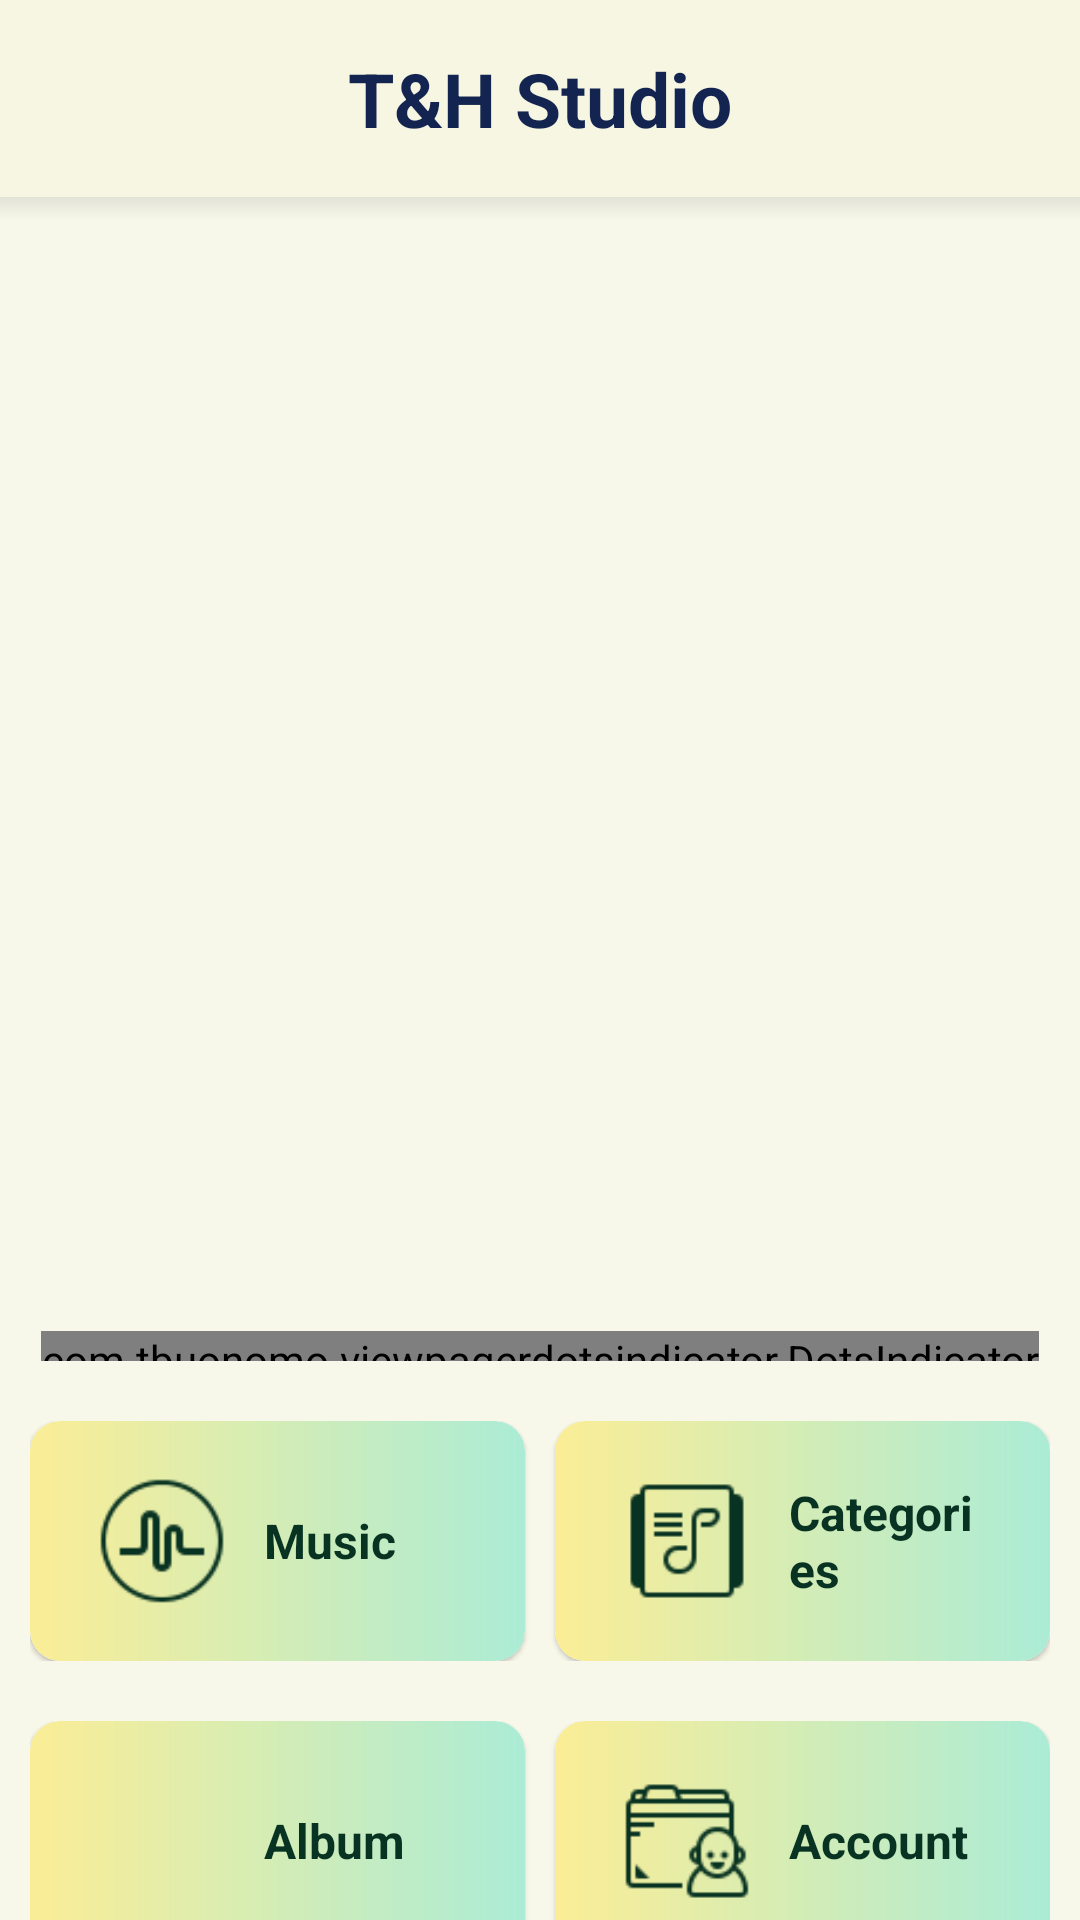

Screen size 1080 x 1920. Icon name, then its box in pixels as (x1,y1,x2,y2):
user: (625,1766,774,1916)
